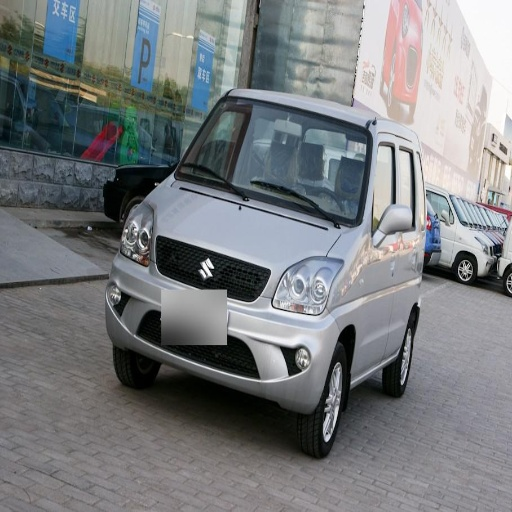front_bumper: (114, 236, 337, 411)
front_glass: (176, 100, 370, 226)
front_left_door: (356, 134, 408, 374)
front_right_light: (120, 206, 152, 265)
